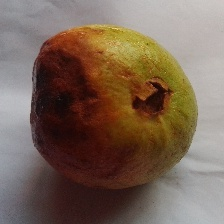guava: (40, 19, 189, 161)
